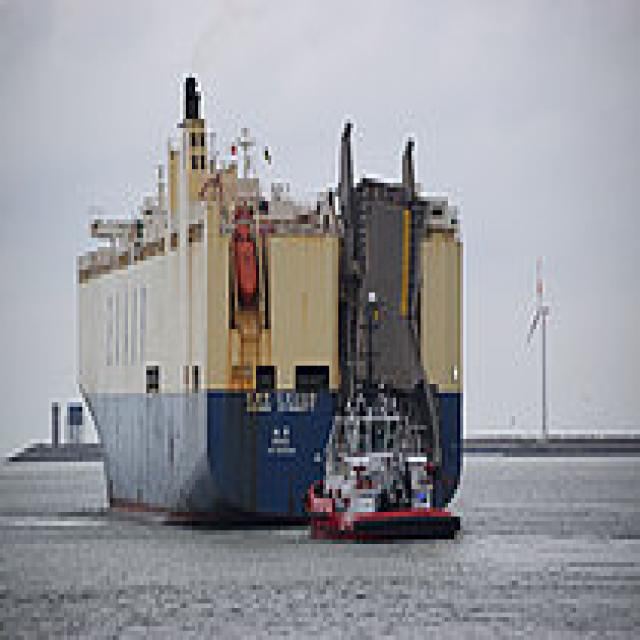Carrier: (70, 64, 466, 526)
